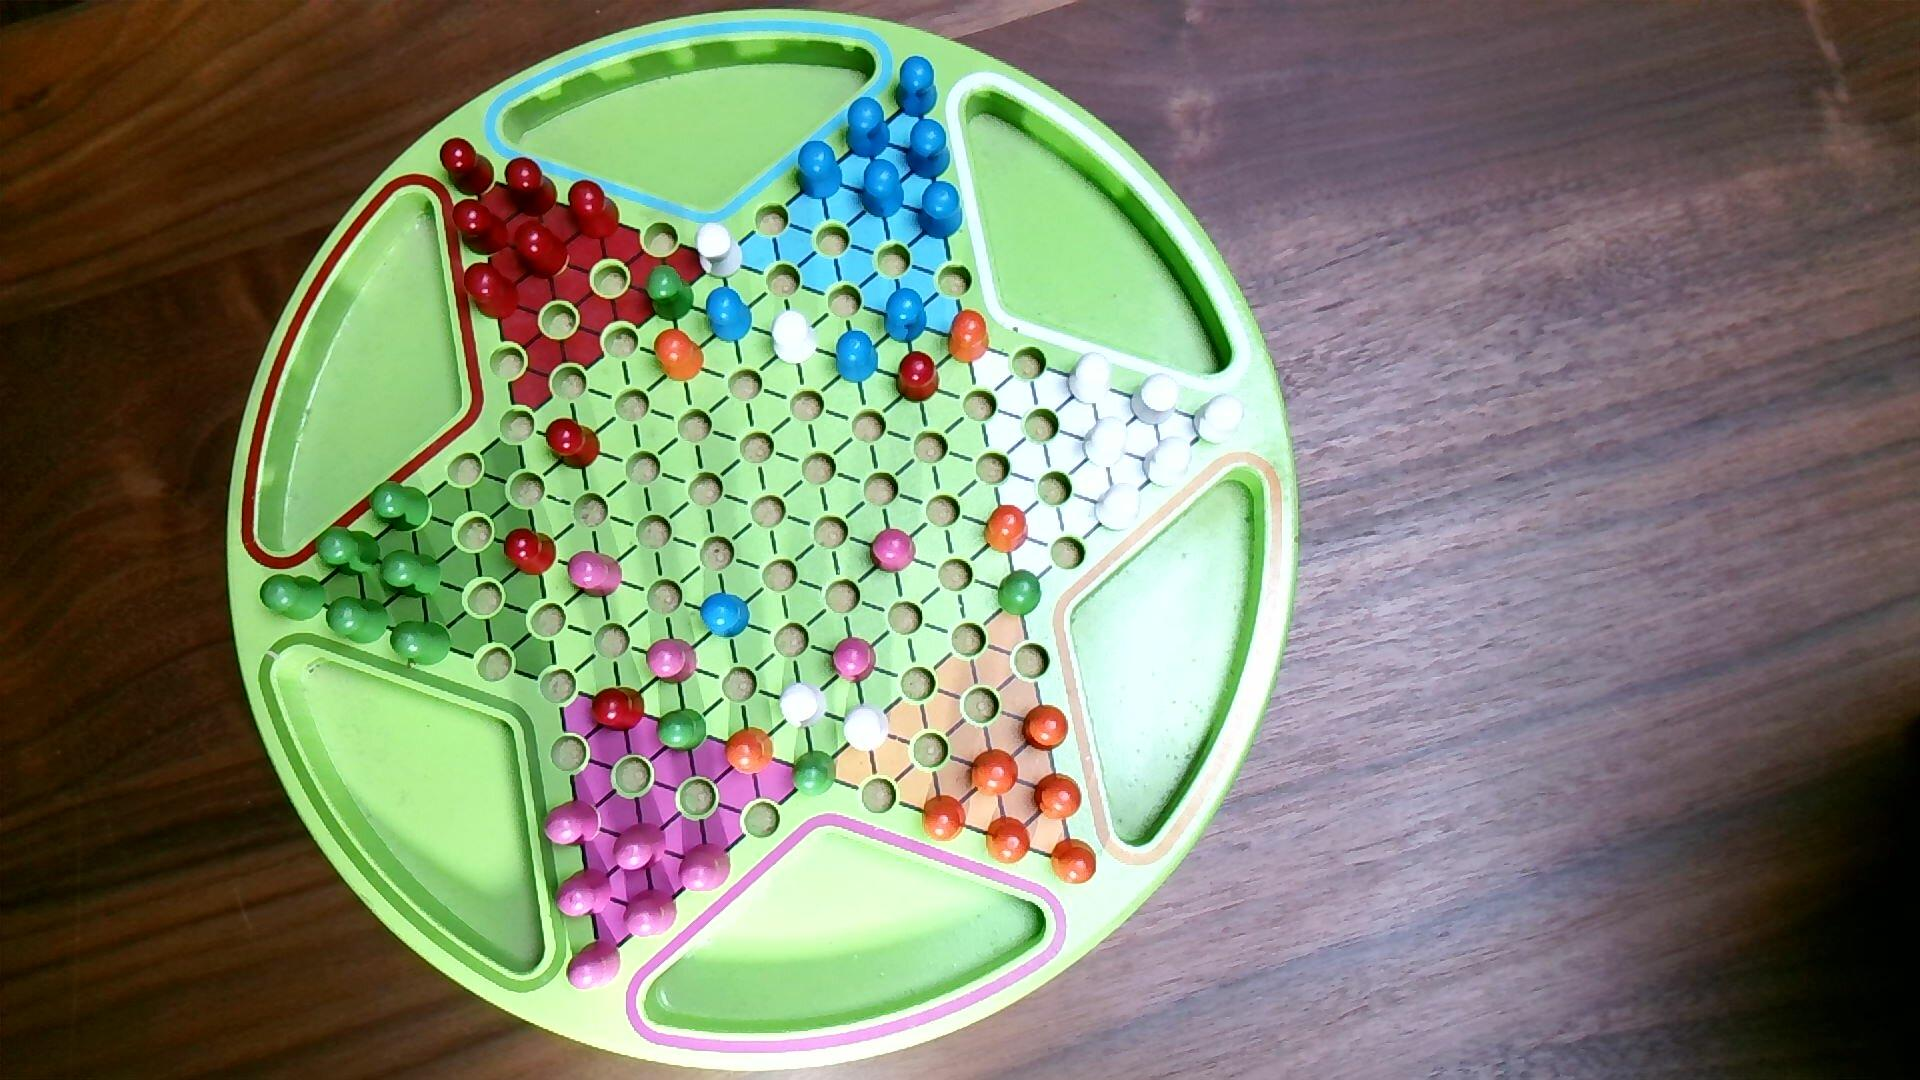B: (916, 177, 967, 243), (858, 156, 907, 223), (794, 138, 845, 200), (844, 95, 893, 160), (893, 54, 940, 120), (905, 117, 953, 181), (704, 286, 754, 345), (881, 286, 930, 345), (833, 327, 881, 386), (700, 589, 752, 641)
G: (314, 525, 384, 580), (368, 477, 431, 535), (378, 547, 444, 603), (326, 595, 392, 647), (260, 572, 328, 622), (390, 617, 455, 669), (645, 261, 695, 324), (655, 705, 709, 754), (790, 748, 839, 800), (996, 567, 1044, 618)
O: (651, 326, 707, 382), (1033, 769, 1087, 823), (968, 746, 1021, 800), (725, 724, 777, 779), (1021, 702, 1072, 756), (947, 306, 992, 367), (1048, 836, 1100, 887), (982, 815, 1034, 866), (982, 502, 1031, 556), (920, 793, 969, 845)
R: (450, 196, 513, 258), (512, 216, 572, 281), (462, 260, 521, 323), (439, 135, 497, 196), (504, 154, 560, 218), (567, 178, 622, 241), (545, 415, 604, 473), (501, 526, 560, 579), (589, 686, 647, 735), (895, 347, 942, 406)
R2: (541, 796, 603, 851), (611, 820, 669, 876), (555, 866, 615, 920), (566, 938, 622, 993), (676, 840, 735, 894), (567, 549, 625, 603), (622, 887, 679, 942), (645, 636, 700, 688), (869, 525, 918, 578), (829, 636, 878, 686)
W: (1189, 390, 1247, 448), (1129, 369, 1183, 429), (1139, 433, 1193, 492), (695, 220, 746, 281), (1091, 479, 1145, 535), (770, 309, 822, 368), (1065, 349, 1116, 409), (1081, 413, 1131, 472), (843, 702, 893, 756), (781, 679, 829, 732)
